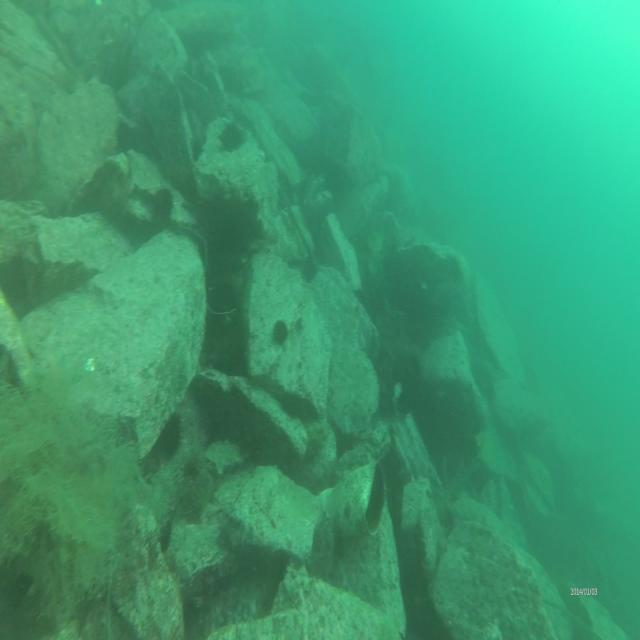echinus: (160, 412, 187, 462), (218, 119, 245, 157), (151, 184, 171, 233), (115, 116, 135, 157), (270, 314, 290, 352), (299, 251, 320, 286)
